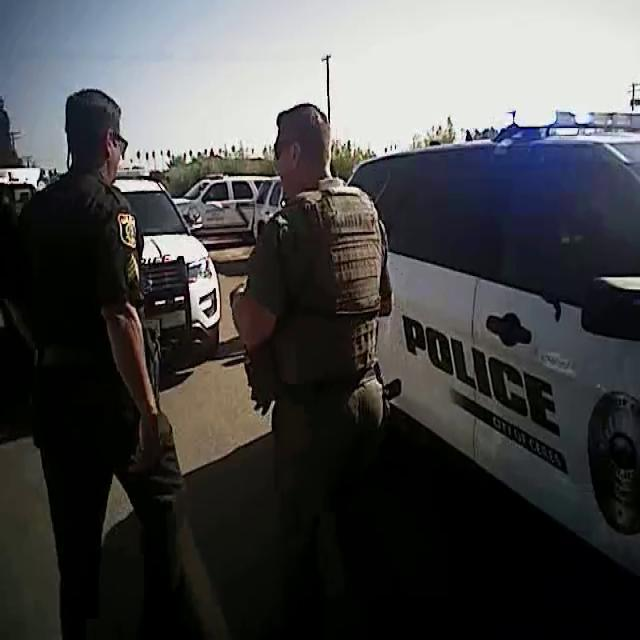gun: (372, 360, 406, 438)
